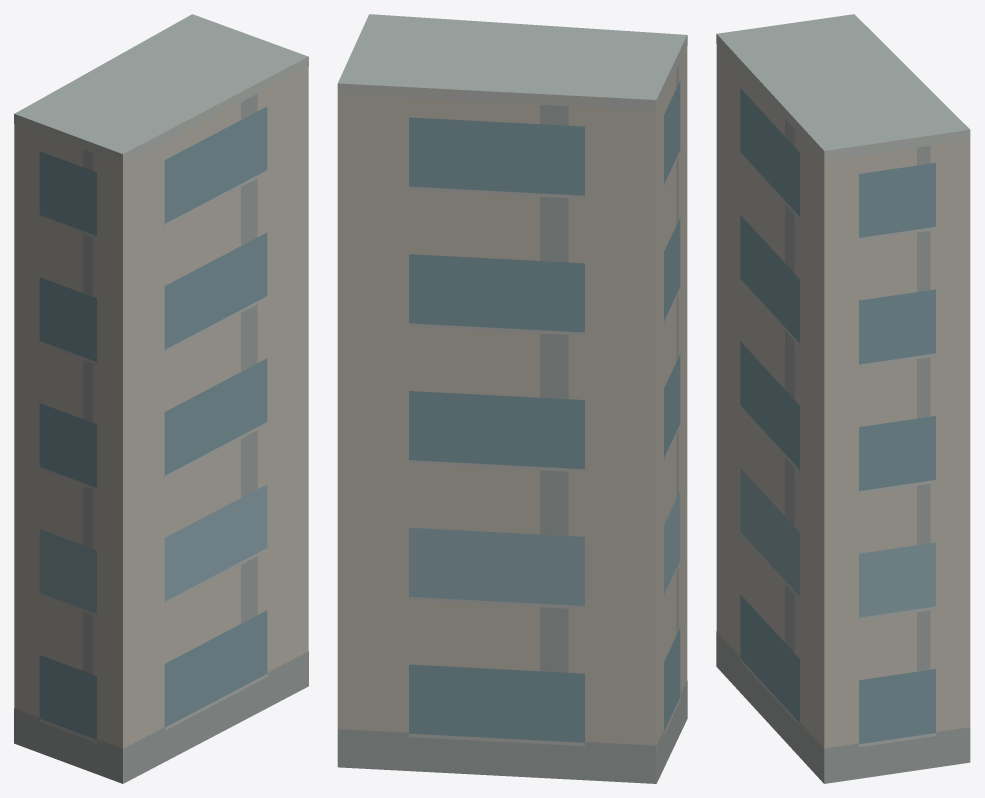
The model's file is survey-upis-32583856.glb.
3 views of the same model, side by side, from view 1: azimuth 30°, elevation 25°; view 2: azimuth 150°, elevation 25°; view 3: azimuth 270°, elevation 25° (orthographic). The views are drawn at different scales.
Parts seen in each view (by area): view 1: survey-upis-32583856.tmp; view 2: survey-upis-32583856.tmp; view 3: survey-upis-32583856.tmp.
Boxes of the visible parts, box(x1,y1,x2,y2) form: survey-upis-32583856.tmp: box(14, 14, 308, 783); survey-upis-32583856.tmp: box(337, 14, 687, 783); survey-upis-32583856.tmp: box(716, 14, 970, 783).
Size of the model in its own units: 7.09 by 15.25 by 5.55.
